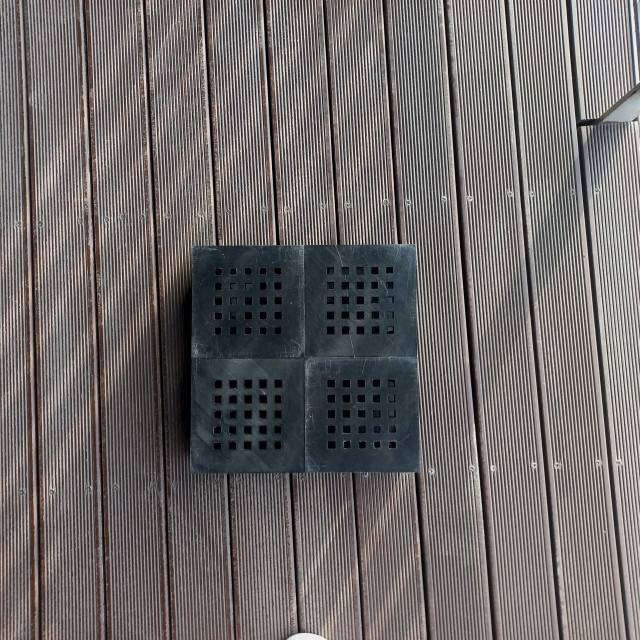pallet: (186, 242, 422, 476)
